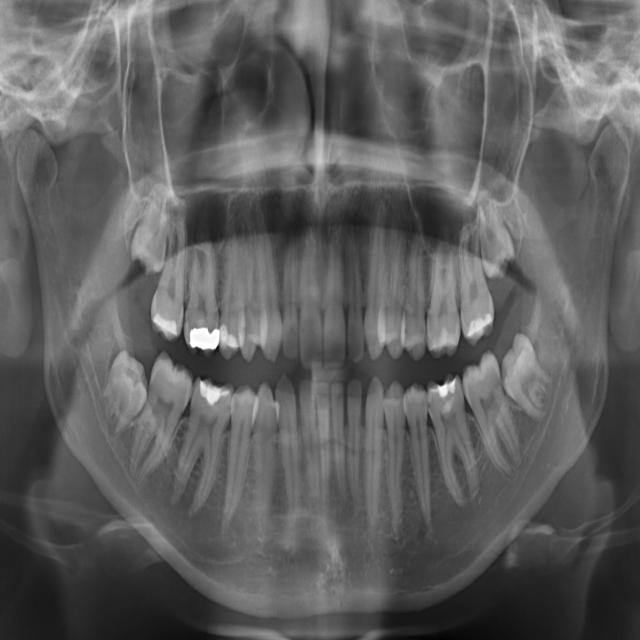AmalgamRestoration: (191, 329, 220, 356)
CompositeResinRestoration: (466, 298, 495, 344), (146, 304, 180, 338), (195, 375, 226, 412), (429, 325, 465, 356), (432, 373, 459, 408), (218, 324, 240, 356)
DentalCaries: (427, 396, 443, 422), (398, 311, 411, 334), (182, 306, 191, 336), (225, 406, 235, 432), (216, 398, 227, 420), (416, 321, 428, 341)
